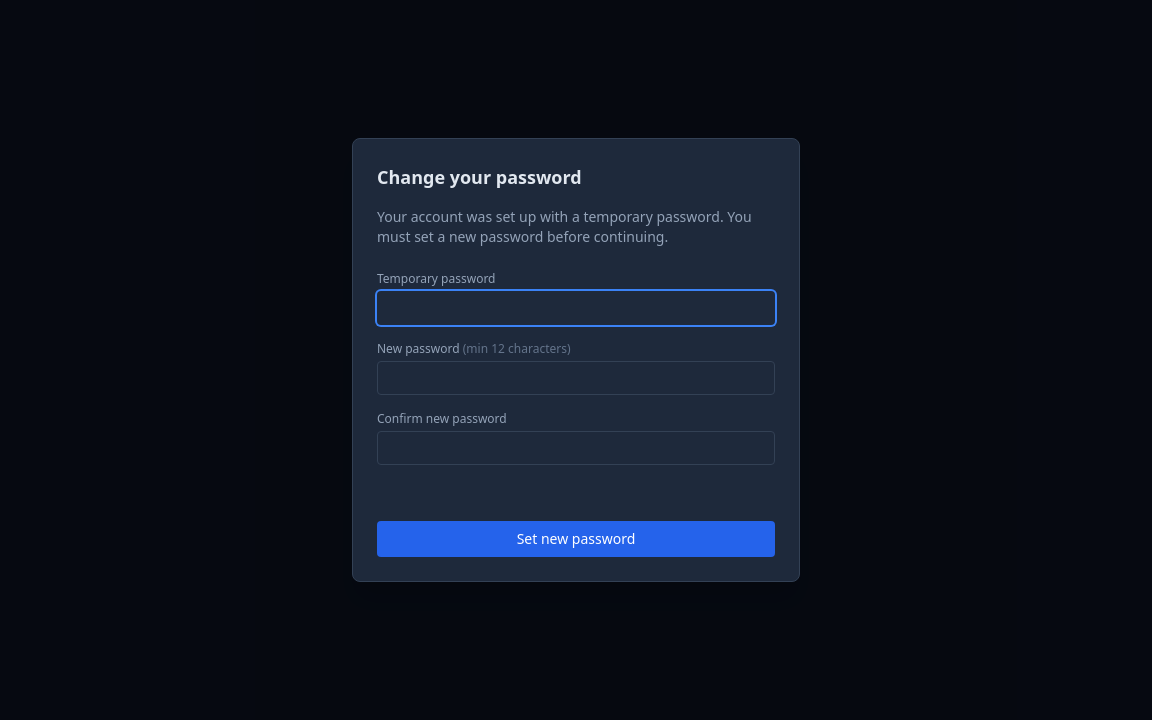
Scenario: ForceChangePasswordModal › shows client-side error when new password is too short
Type "oldpassword123" into the password field labelled "Temporary password" at (576, 308), box [377, 291, 775, 325]
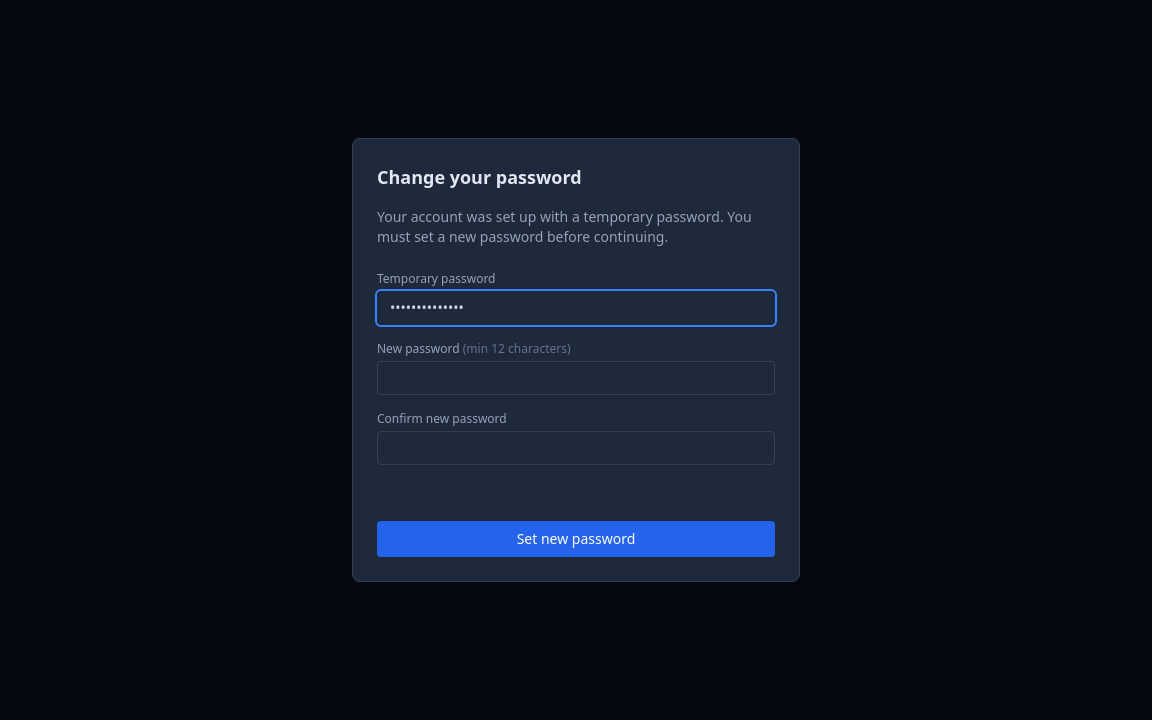
Type "short" into the password field labelled "New password (min 12 characters)" at (576, 378), box [377, 361, 775, 395]
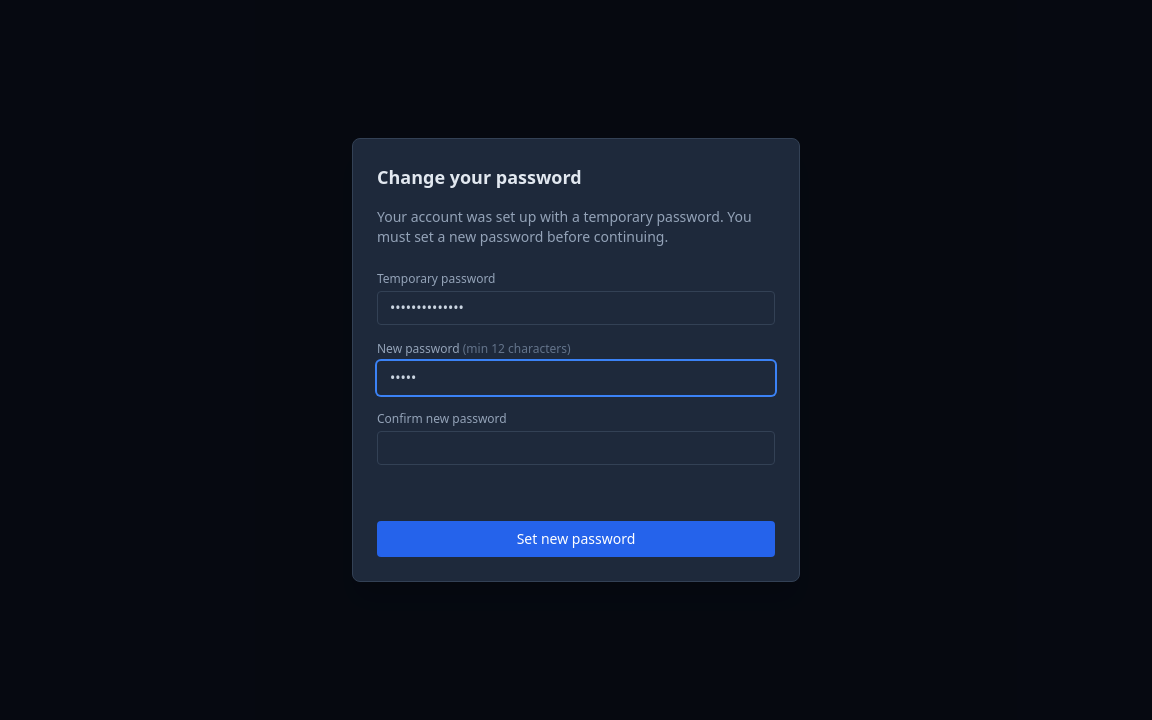
Type "short" into the password field labelled "Confirm new password" at (576, 448), box [377, 431, 775, 465]
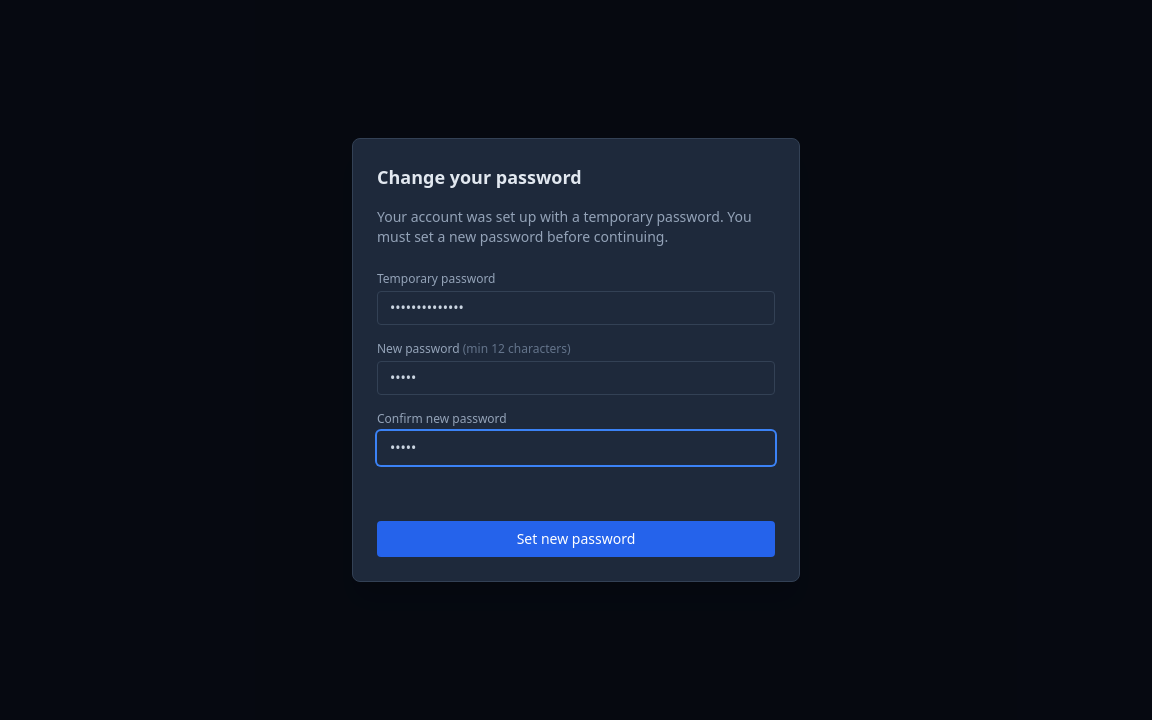
Click the button "Set new password" at (576, 539), box [377, 521, 775, 557]
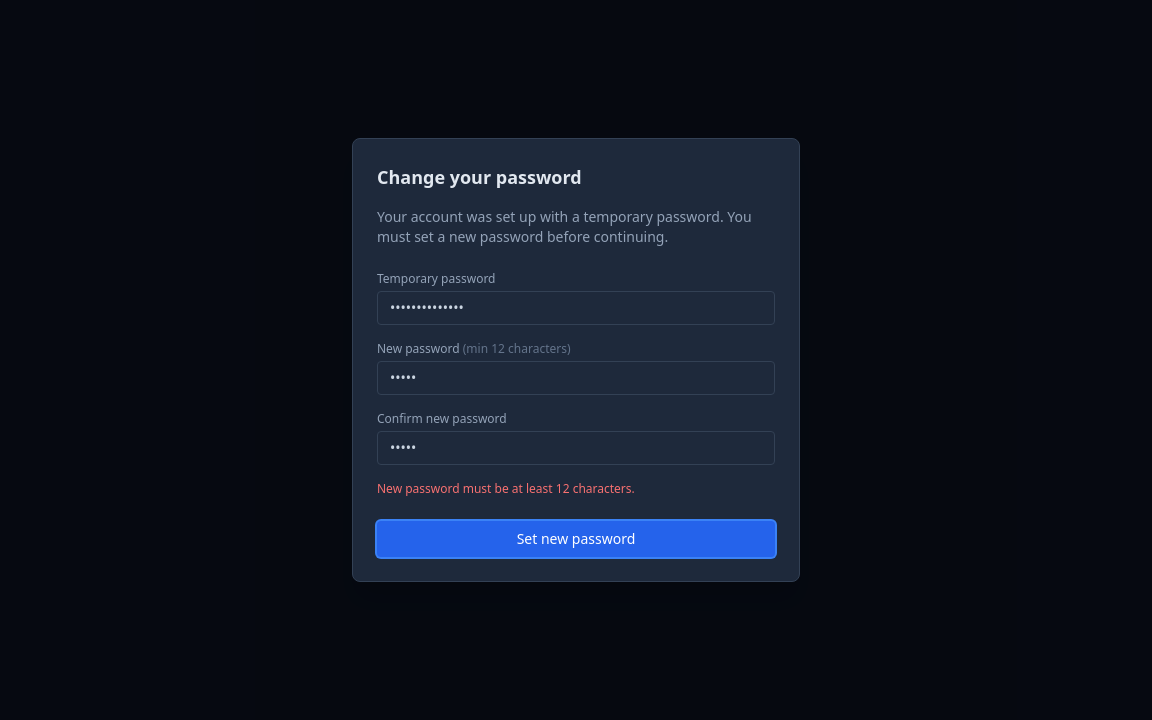
expect the text "New password must be at least 12 characters." is shown: met, box [377, 480, 635, 497]
